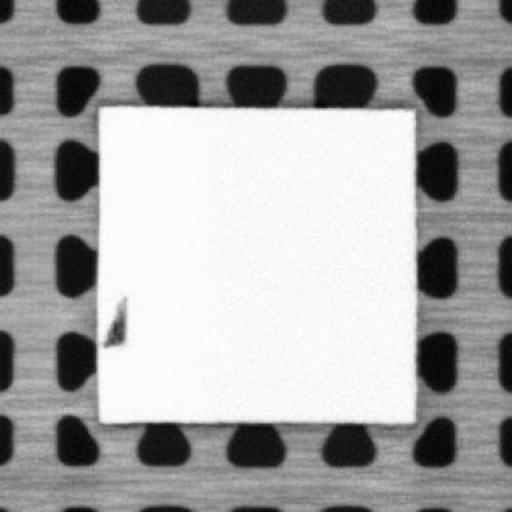DIE_INK: (100, 293, 128, 347)
